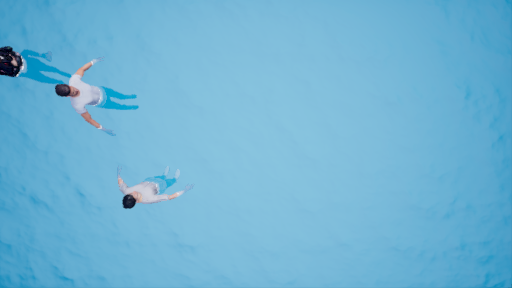person: (55, 56, 146, 140), (108, 164, 192, 212), (1, 40, 73, 92)
